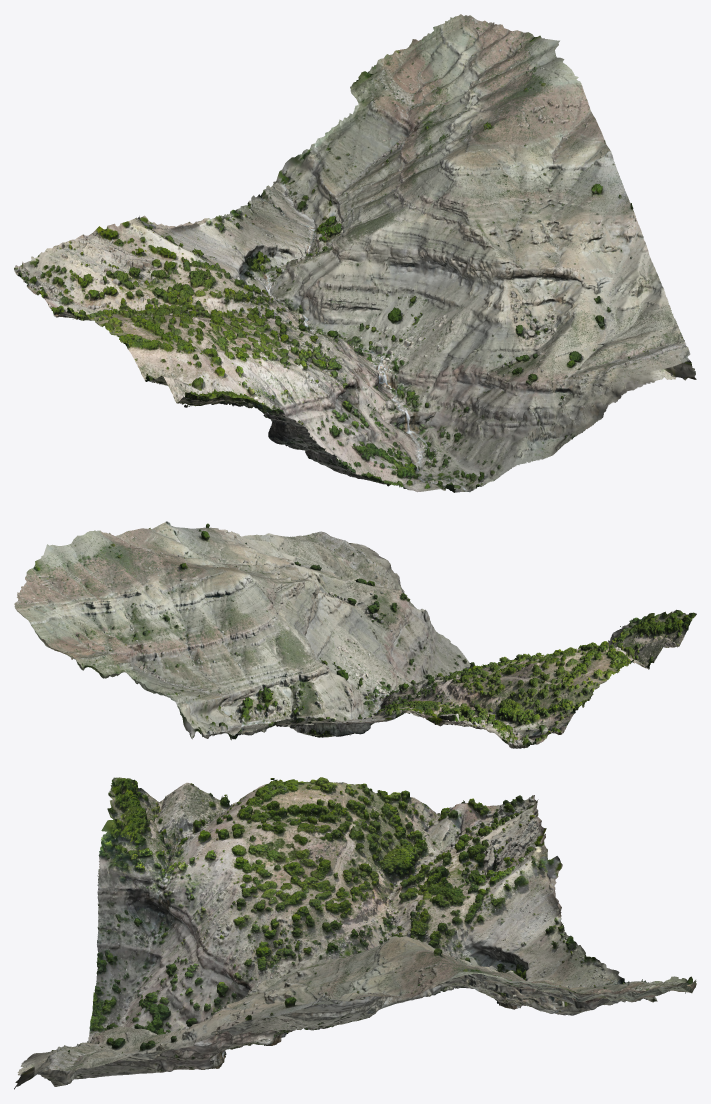
File: medium.glb
3 renders of one model, top to bottom at view 1: azimuth 30°, elevation 25°; view 2: azimuth 150°, elevation 25°; view 3: azimuth 270°, elevation 25°, orthographic. The views are drawn at different scales.
Parts seen in each view (by area): view 1: Sürek; view 2: Sürek; view 3: Sürek.
Boxes of the visible parts, <box> form: Sürek: <box>14,14,696,492</box>; Sürek: <box>14,521,696,748</box>; Sürek: <box>14,777,696,1089</box>.
Bounding box in the file's own units: 529 × 210 × 512.
4 materials, 4 textured.
